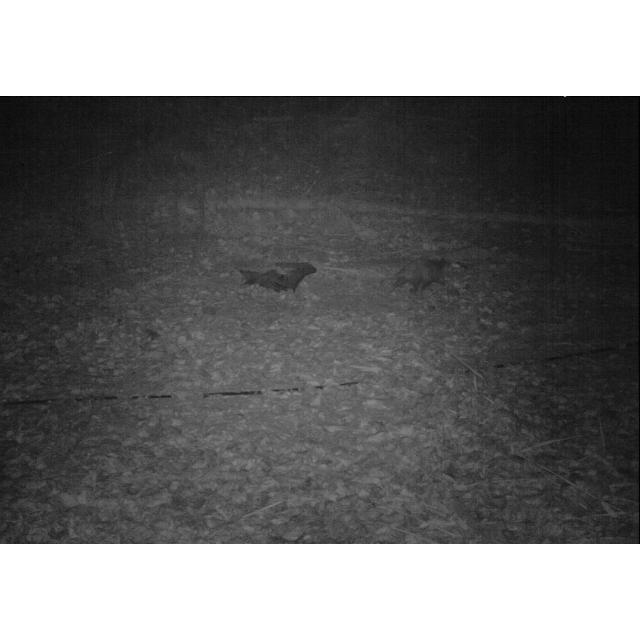animals: (387, 256, 468, 296)
